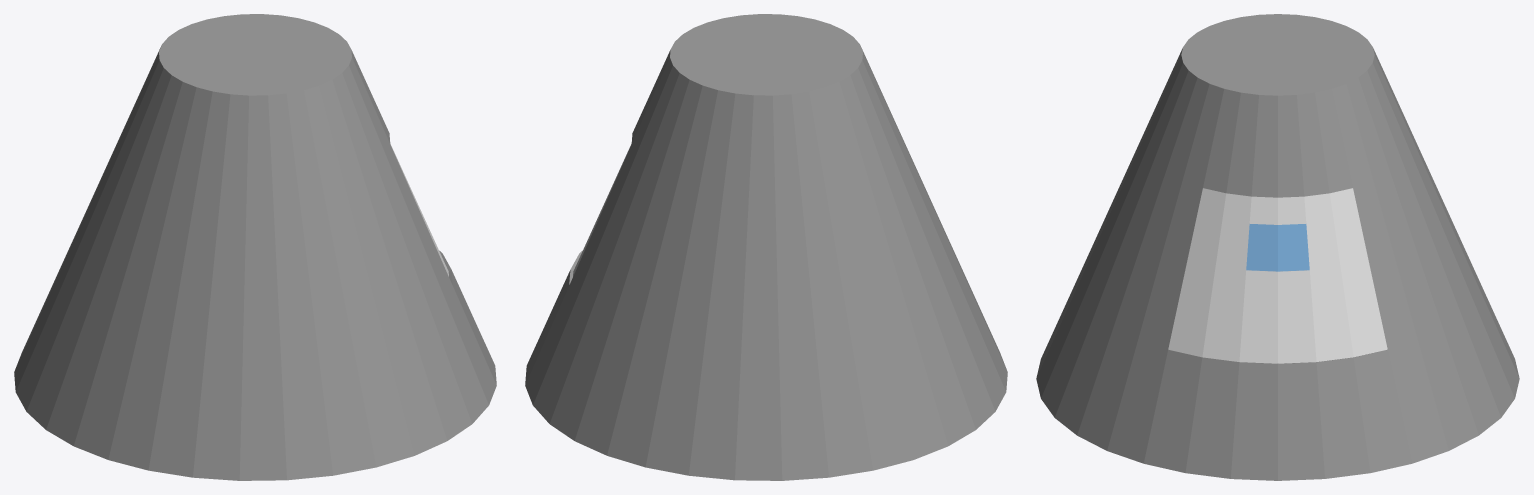
The picture shows the model from 3 angles, left to right: view 1: azimuth 30°, elevation 25°; view 2: azimuth 150°, elevation 25°; view 3: azimuth 270°, elevation 25°; orthographic projection.
Visible parts, largest first — view 1: Cylinder; view 2: Cylinder; view 3: Cylinder.
Boxes of the visible parts, x1,y1,x2,y2 form: Cylinder: [14, 14, 496, 480]; Cylinder: [525, 14, 1007, 480]; Cylinder: [1036, 14, 1519, 480].
Size of the model in its own units: 200 by 148 by 200.
